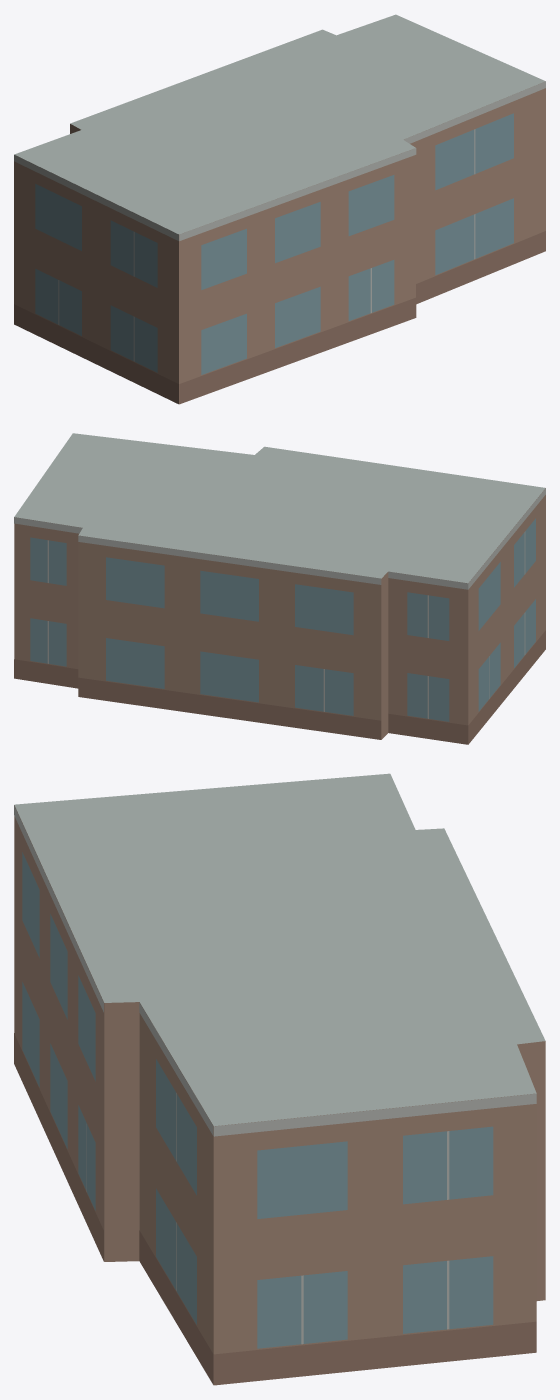
Rendered from survey-upis-32624102.glb.
The picture shows the model from 3 angles, top to bottom: view 1: azimuth 30°, elevation 25°; view 2: azimuth 150°, elevation 25°; view 3: azimuth 270°, elevation 25°; orthographic projection. The views are drawn at different scales.
Parts seen in each view (by area): view 1: survey-upis-32624102.tmp; view 2: survey-upis-32624102.tmp; view 3: survey-upis-32624102.tmp.
Boxes of the visible parts, left/top/right/bottom form: survey-upis-32624102.tmp: left=14, top=14, right=545, bottom=404; survey-upis-32624102.tmp: left=14, top=433, right=545, bottom=744; survey-upis-32624102.tmp: left=14, top=773, right=545, bottom=1385.
Size of the model in its own units: 17.82 by 6.1 by 11.35.
